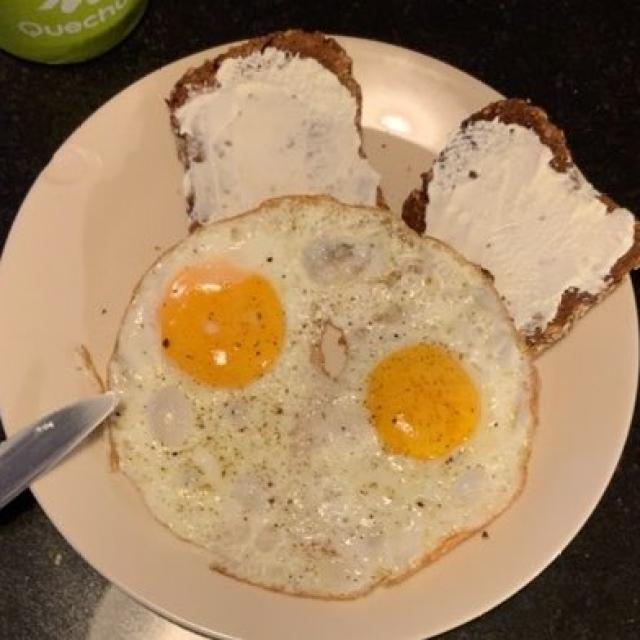egg: (115, 201, 538, 588)
